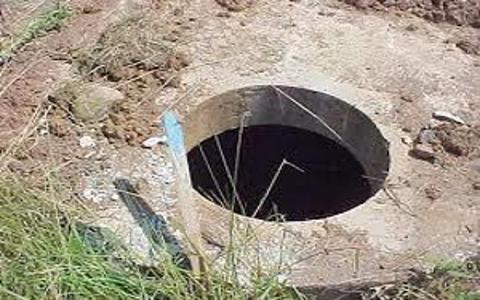open manhole: (168, 79, 406, 238)
